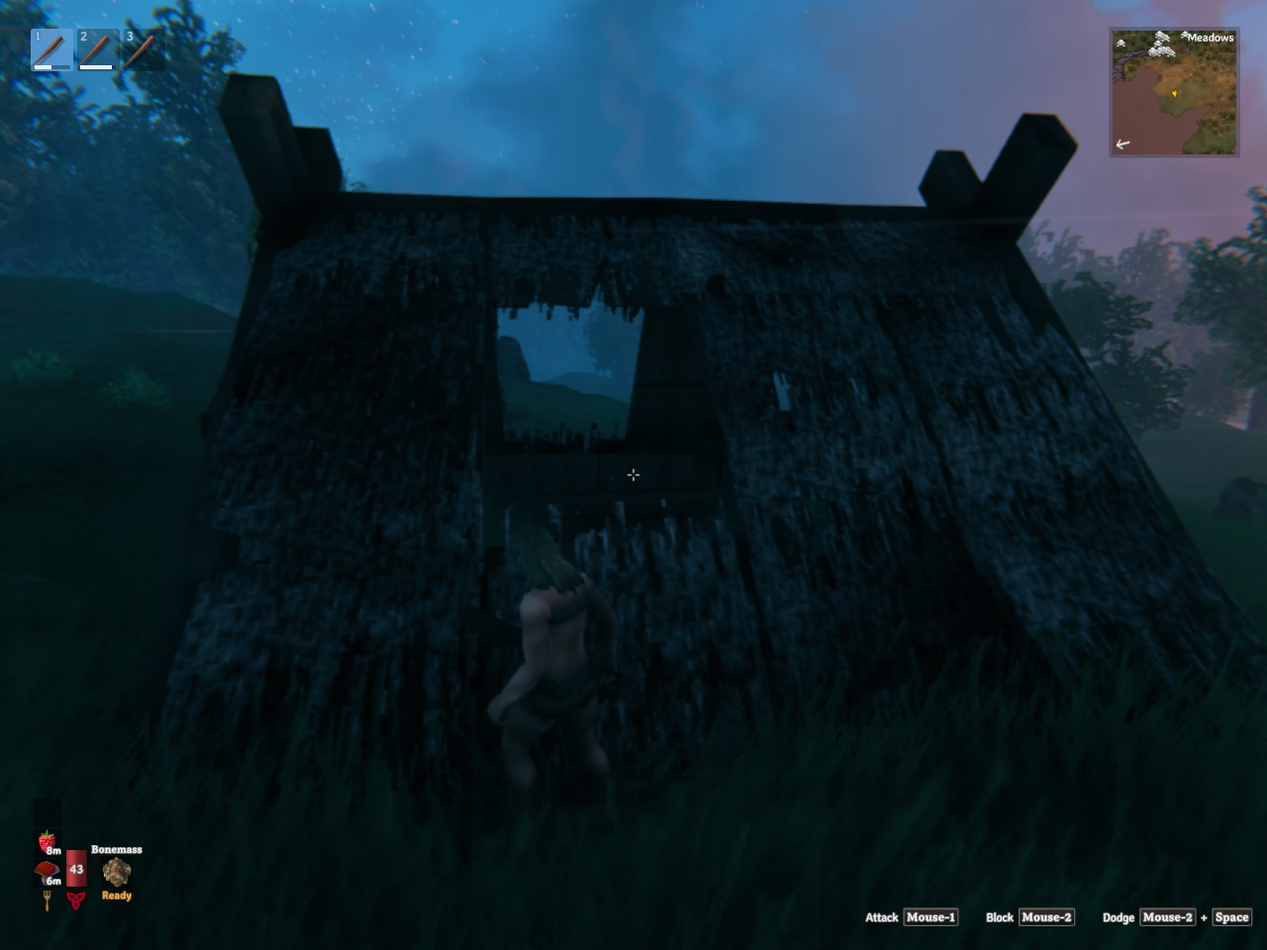Food Indicator: (36, 797, 63, 891)
Health Bar: (63, 820, 90, 891)
Hotbar: (24, 21, 195, 80)
House: (140, 71, 1260, 787)
